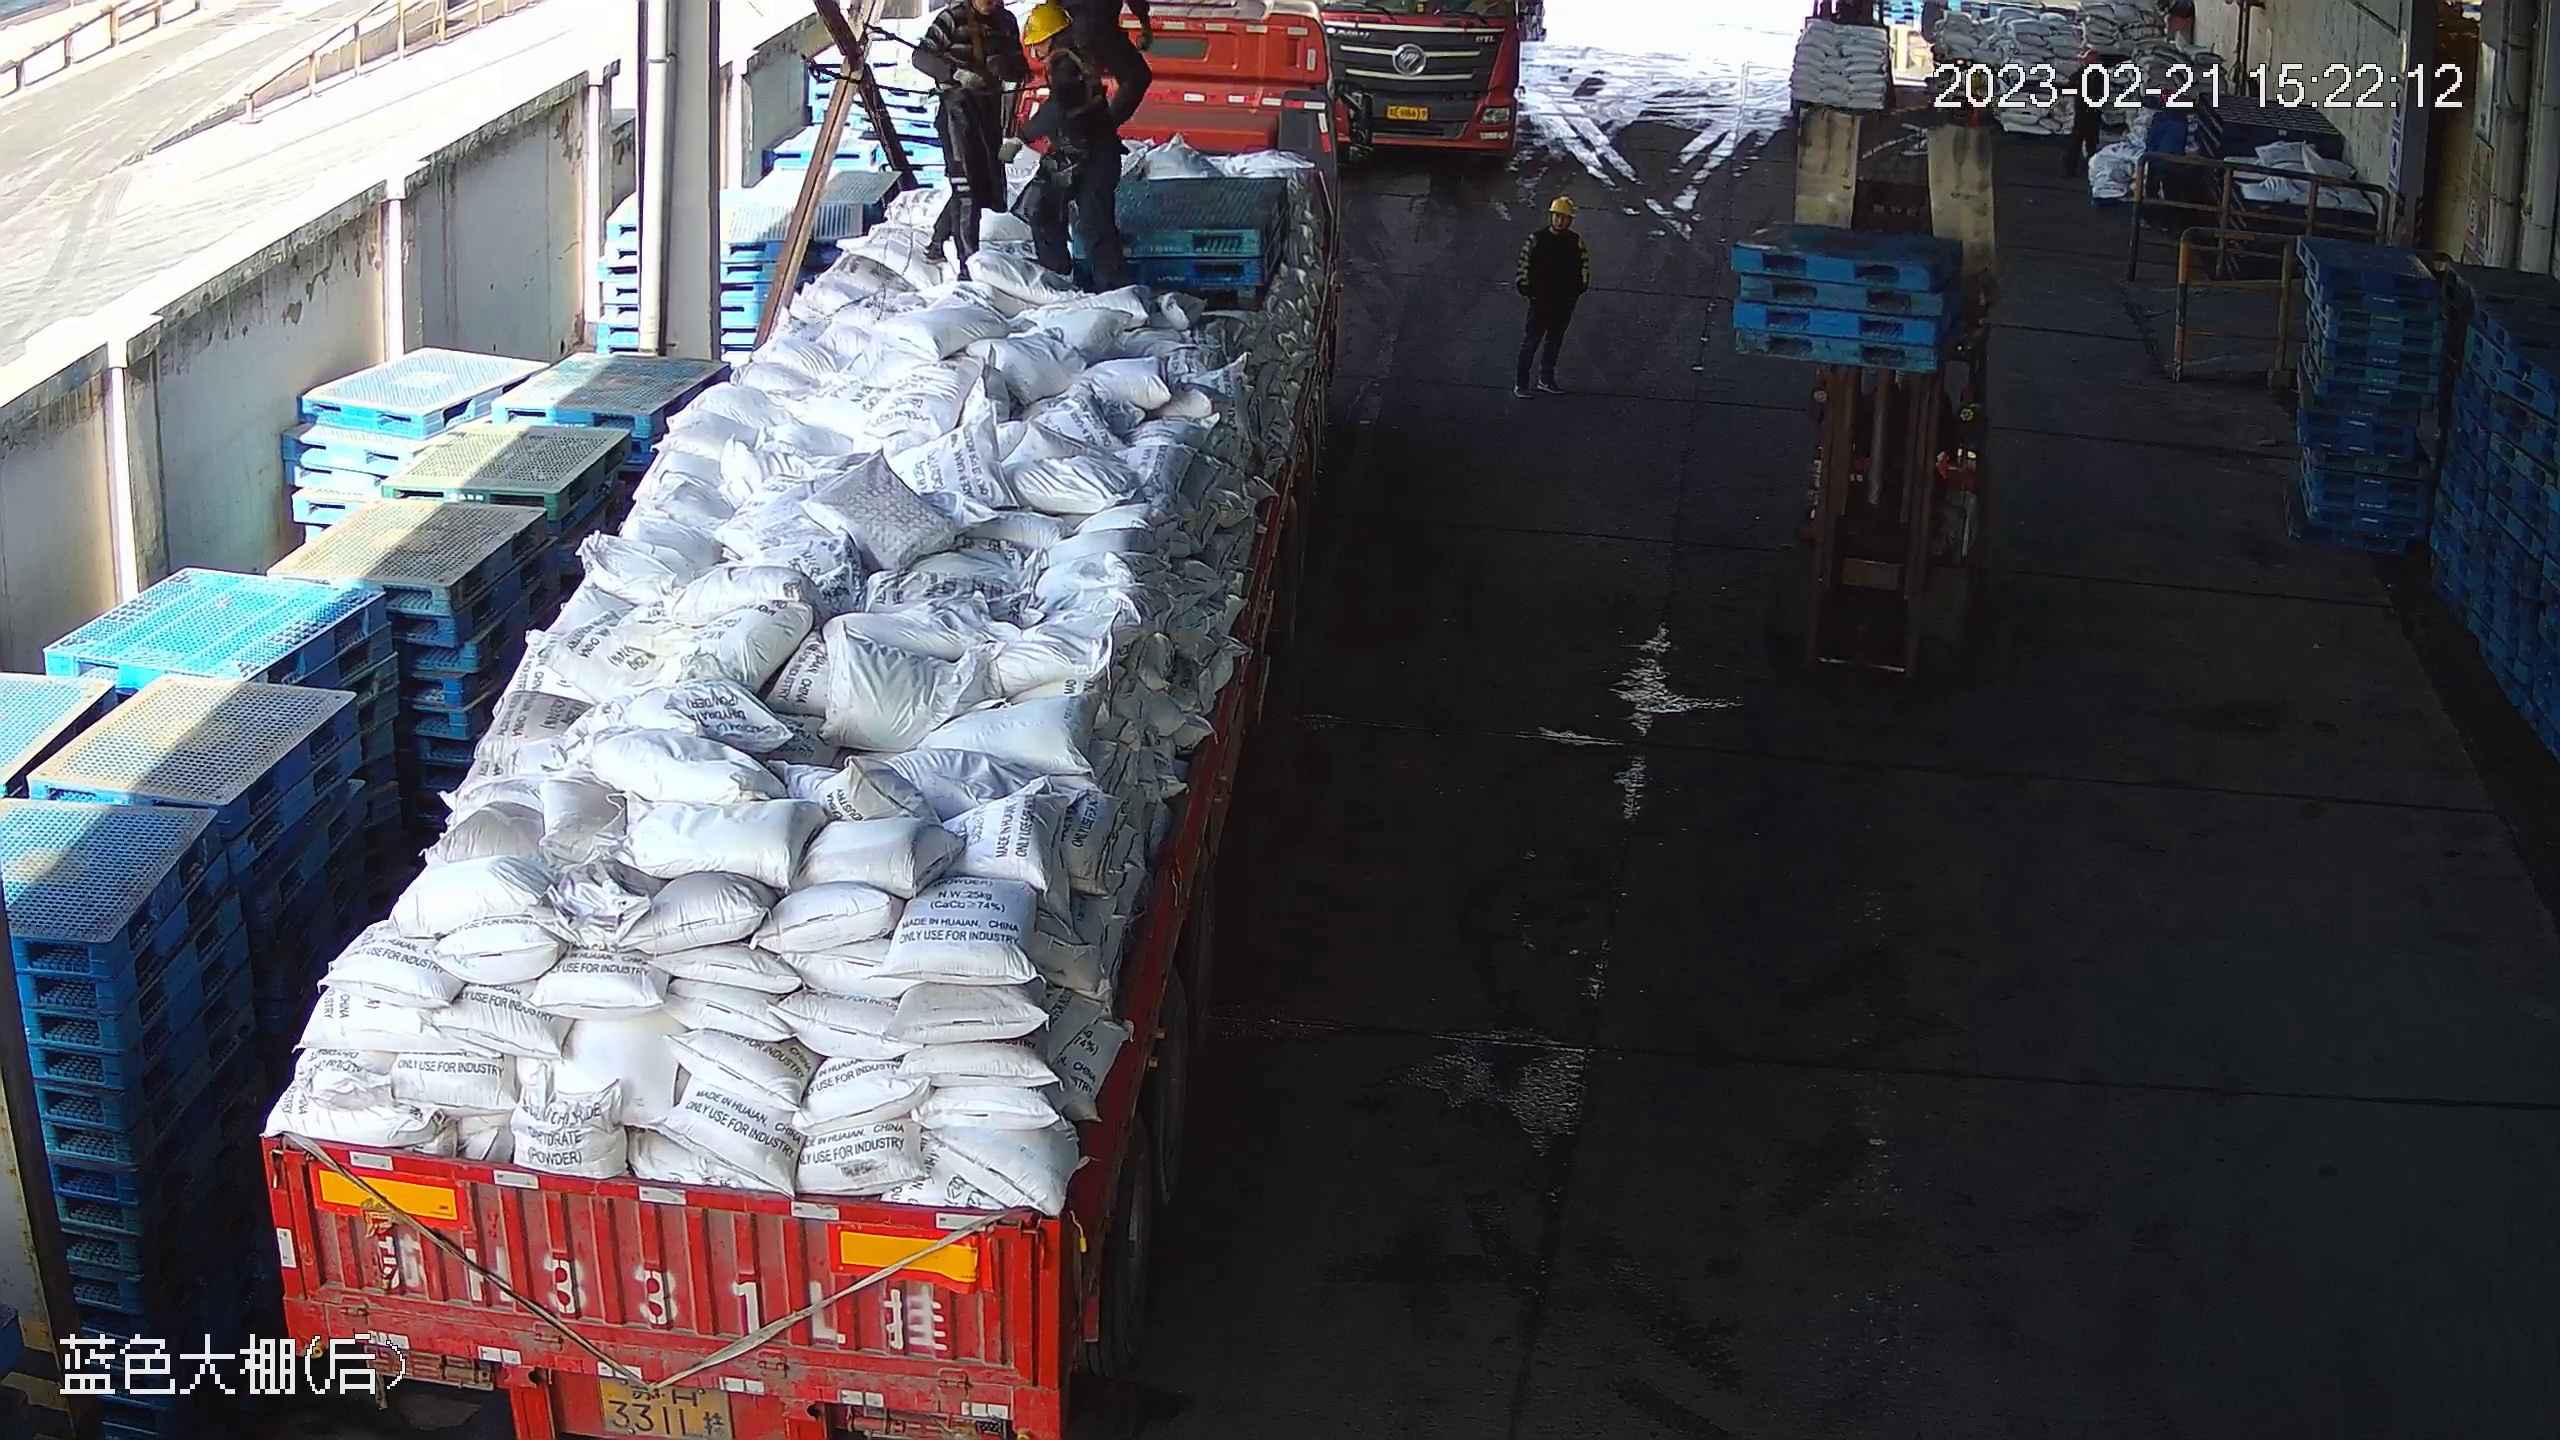belt: (1051, 49, 1119, 128), (961, 18, 1011, 66)
head: (1024, 2, 1101, 75), (1533, 189, 1584, 247)
helmet: (1024, 4, 1072, 39), (1550, 192, 1578, 215)
people: (911, 1, 1028, 285), (1025, 6, 1132, 292), (1514, 191, 1589, 404)
truck: (263, 8, 1384, 1440)
